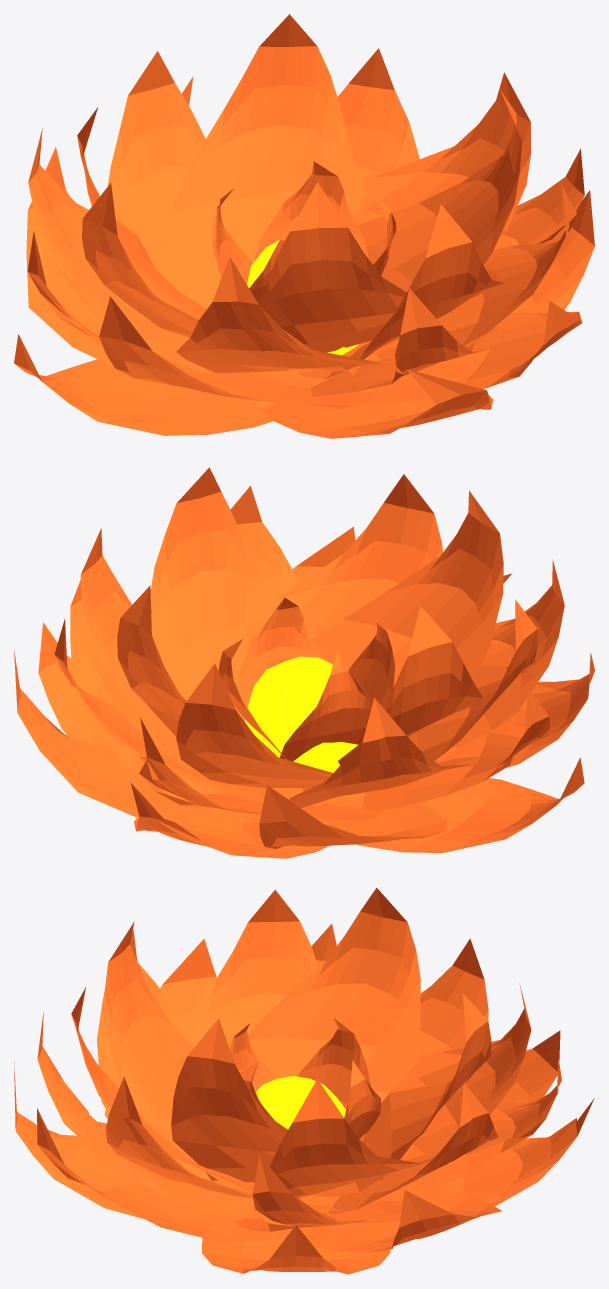
The model's file is bonflower.fbx.
3 renders of one model, top to bottom at view 1: azimuth 30°, elevation 25°; view 2: azimuth 150°, elevation 25°; view 3: azimuth 270°, elevation 25°, orthographic. The views are drawn at different scales.
Parts seen in each view (by area): view 1: Plane.041; view 2: Plane.041; view 3: Plane.041.
Part boxes in pixels (x1,y1,x2,y2): Plane.041: (14,14,594,438); Plane.041: (14,467,594,858); Plane.041: (14,887,594,1274).
Bounding box in the file's own units: 80.66 × 36.84 × 79.45.
